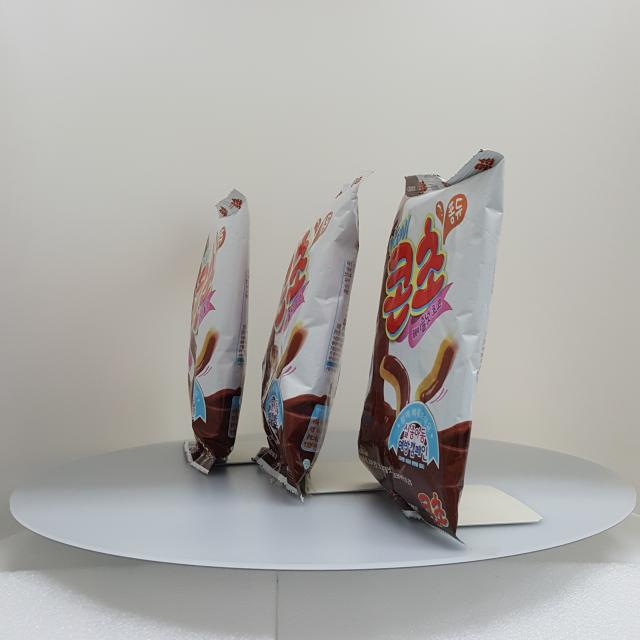-66G: (358, 150, 505, 549), (252, 171, 375, 504), (184, 189, 252, 476)
